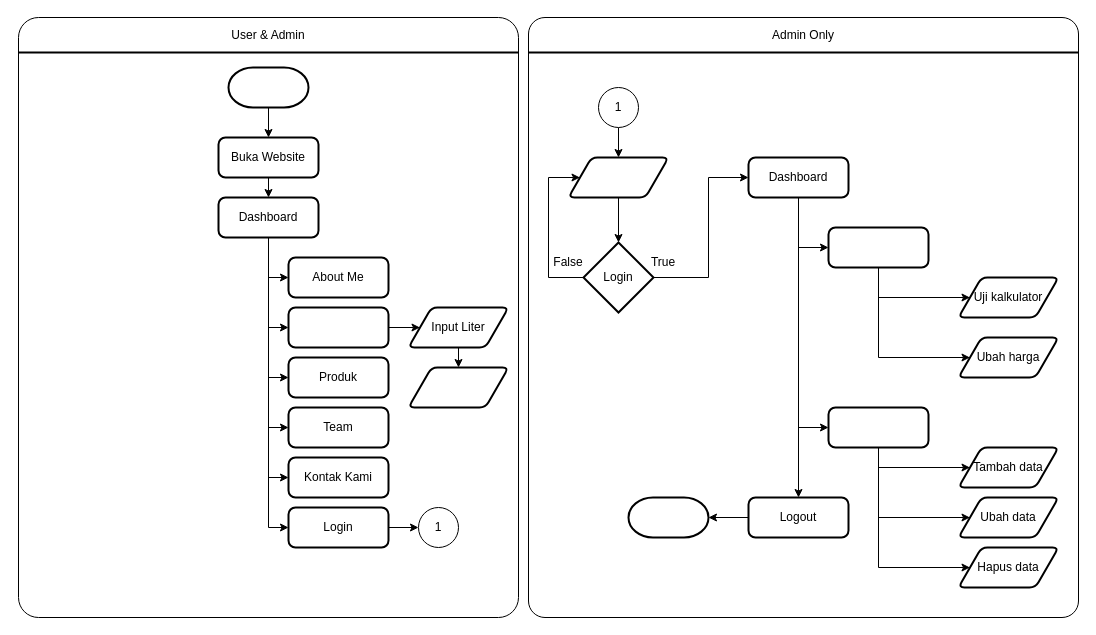
The diagram is 1096 pixels wide and 635 high, and some of its shapes have lost their labels. The box of each missing label's shape, as (x1, y1, x2, y2) in pixels:
Calculator: (287, 306, 389, 348)
Input User& Password: (567, 156, 669, 198)
Setting Kalkulator: (827, 226, 929, 268)
Setting Produk: (827, 406, 929, 448)
START: (227, 66, 309, 108)
STOP: (627, 496, 709, 538)
Tampil harga: (407, 366, 509, 408)
